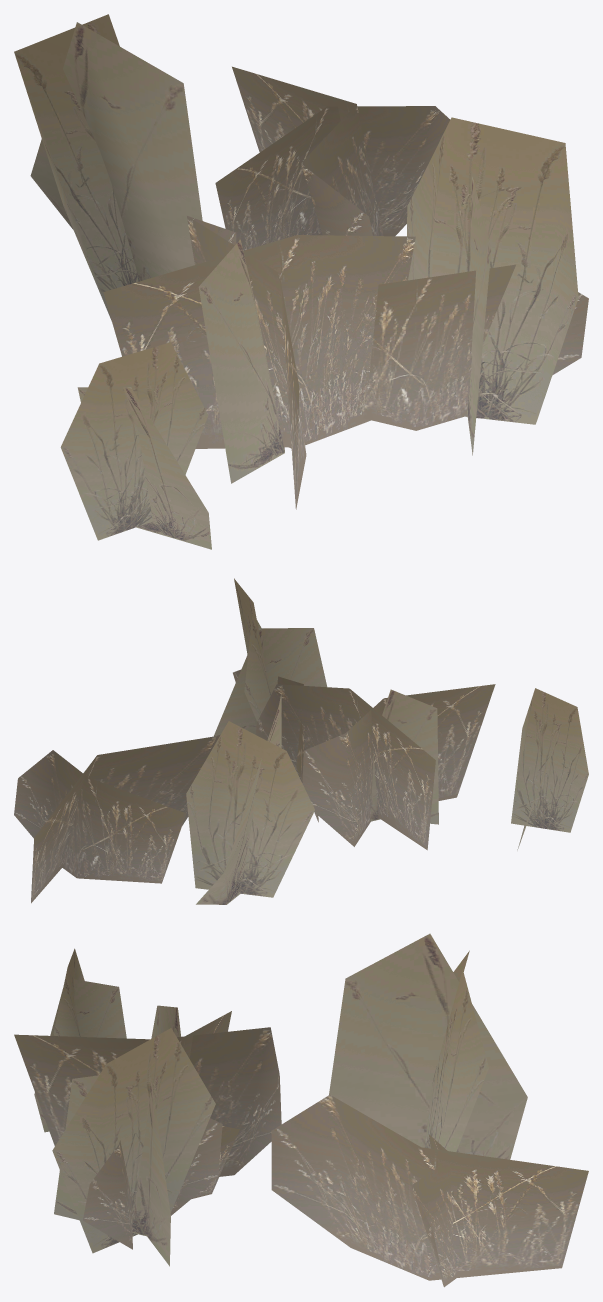
Rendered from prop_grass_001_a.FBX.
The picture shows the model from 3 angles, top to bottom: view 1: azimuth 30°, elevation 25°; view 2: azimuth 150°, elevation 25°; view 3: azimuth 270°, elevation 25°; orthographic projection. The views are drawn at different scales.
Parts seen in each view (by area): view 1: prop_grass_001_a; view 2: prop_grass_001_a; view 3: prop_grass_001_a.
Part boxes in pixels (x1,y1,x2,y2): prop_grass_001_a: (14,14,588,549); prop_grass_001_a: (14,578,588,904); prop_grass_001_a: (14,933,588,1287).
Bounding box in the file's own units: 1.75 × 1.82 × 0.856.
Materials: 1 (1 with a texture image).
